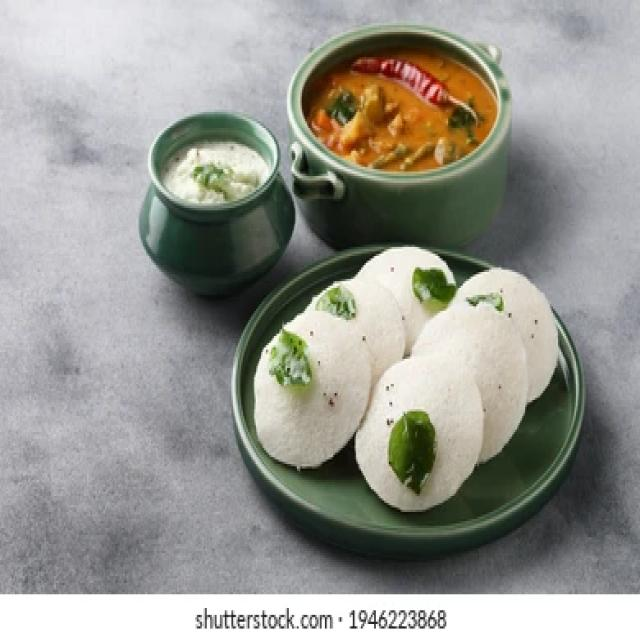IDLI: (356, 347, 482, 510), (253, 309, 371, 466), (420, 293, 527, 457), (461, 267, 558, 400), (361, 247, 453, 350), (336, 272, 405, 386)
